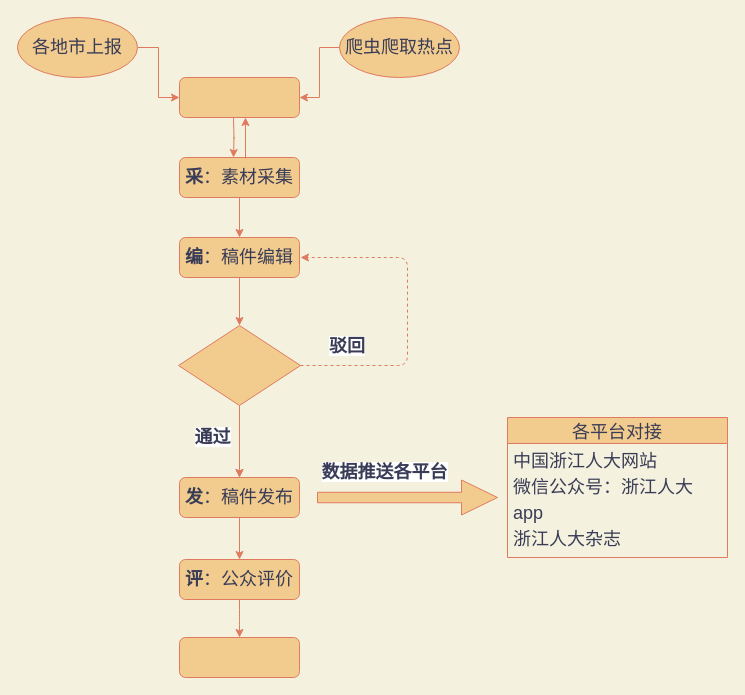
Image size: 745x695. Some labels were removed from this diagram. Each missing label, with the centre of its shape:
审 稿件审核: the point at 239,365
控 ：稿件追踪: the point at 239,657
策 ：选题策划: the point at 239,97
